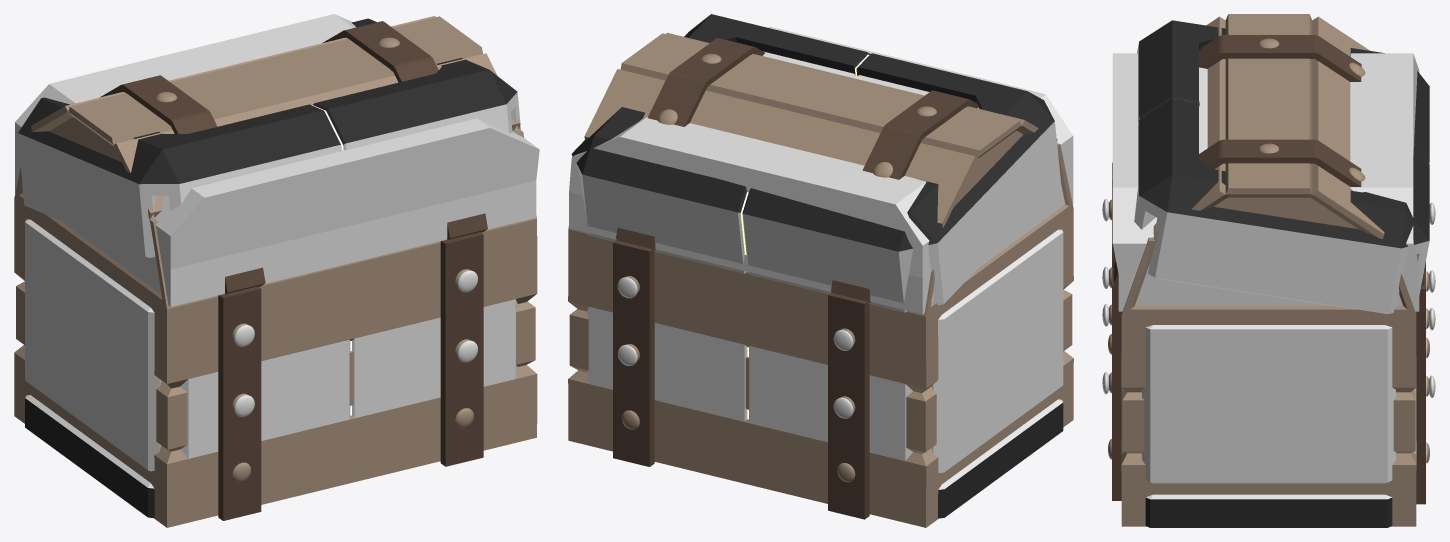
Rendered from coffre.fbx.
The picture shows the model from 3 angles, left to right: view 1: azimuth 30°, elevation 25°; view 2: azimuth 150°, elevation 25°; view 3: azimuth 270°, elevation 25°; orthographic projection. The views are drawn at different scales.
Visible parts, largest first — view 1: caisse, Plane, Cube, Couvercle, couvercle, planches, couvercle.001, Sphere, clous caisse; view 2: Couvercle, caisse, Cube, couvercle, Plane, planches, couvercle.001, Sphere.001, clous couv, clous caisse; view 3: Cube, Couvercle, couvercle, Plane, caisse, couvercle.001, planches, clous caisse, clous couv, Sphere, Sphere.001.
Boxes of the visible parts, bbox=[...] form: caisse: bbox=[14, 198, 537, 527]; Plane: bbox=[15, 14, 539, 306]; Cube: bbox=[25, 219, 517, 518]; Couvercle: bbox=[18, 18, 520, 257]; couvercle: bbox=[14, 16, 536, 309]; planches: bbox=[218, 232, 483, 520]; couvercle.001: bbox=[100, 21, 487, 294]; Sphere: bbox=[234, 270, 477, 416]; clous caisse: bbox=[232, 269, 473, 482]; Couvercle: bbox=[571, 14, 1060, 312]; caisse: bbox=[568, 209, 1073, 527]; Cube: bbox=[587, 229, 1063, 518]; couvercle: bbox=[568, 32, 1073, 316]; Plane: bbox=[569, 26, 1073, 314]; planches: bbox=[613, 240, 869, 519]; couvercle.001: bbox=[616, 38, 978, 302]; Sphere.001: bbox=[617, 277, 853, 418]; clous couv: bbox=[657, 53, 936, 177]; clous caisse: bbox=[622, 276, 855, 482]; Cube: bbox=[1121, 325, 1416, 527]; Couvercle: bbox=[1134, 20, 1429, 313]; couvercle: bbox=[1121, 14, 1416, 315]; Plane: bbox=[1112, 53, 1419, 311]; caisse: bbox=[1121, 315, 1416, 526]; couvercle.001: bbox=[1113, 35, 1424, 287]; planches: bbox=[1112, 162, 1425, 504]; clous caisse: bbox=[1108, 199, 1429, 463]; clous couv: bbox=[1258, 38, 1365, 181]; Sphere: bbox=[1102, 199, 1108, 394]; Sphere.001: bbox=[1429, 202, 1435, 397].
Size of the model in its own units: 286 by 261 by 226.
